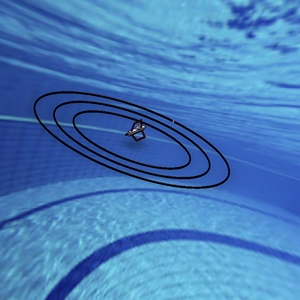circle: (12, 57, 250, 212)
submarine: (121, 111, 150, 150)
